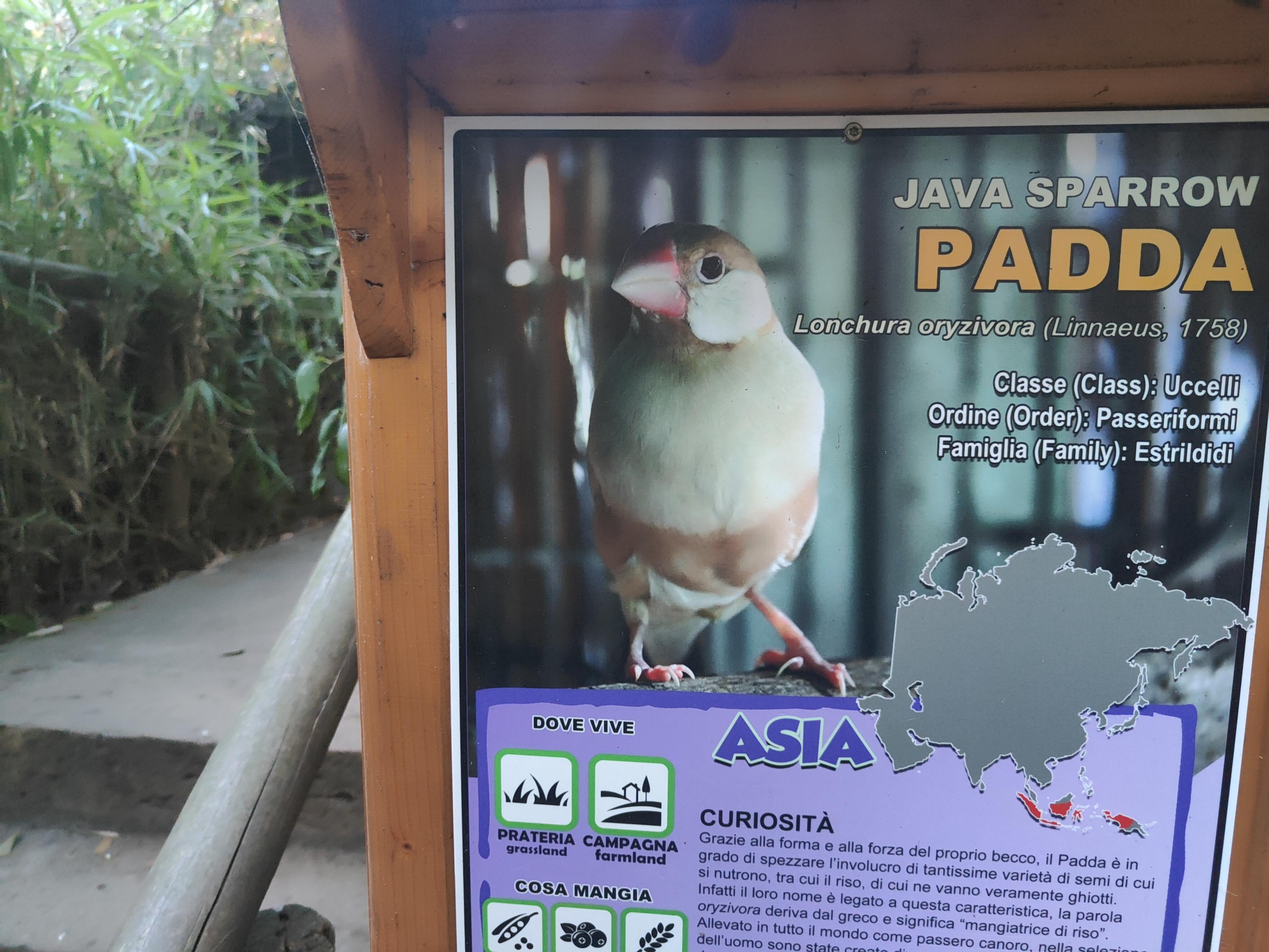apple: (585, 220, 856, 697)
